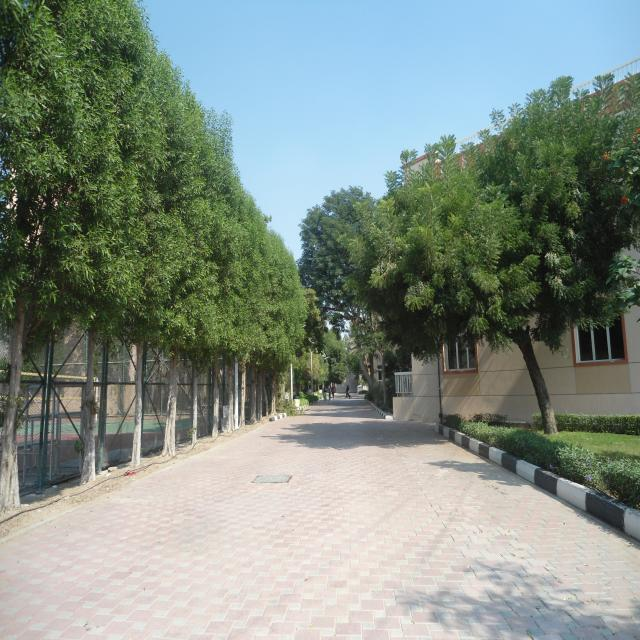bush: (440, 396, 639, 542)
tree-chair-bench-table-wall: (4, 0, 299, 512), (394, 63, 635, 441), (298, 182, 398, 410)
window: (572, 292, 628, 369), (437, 310, 482, 374)
